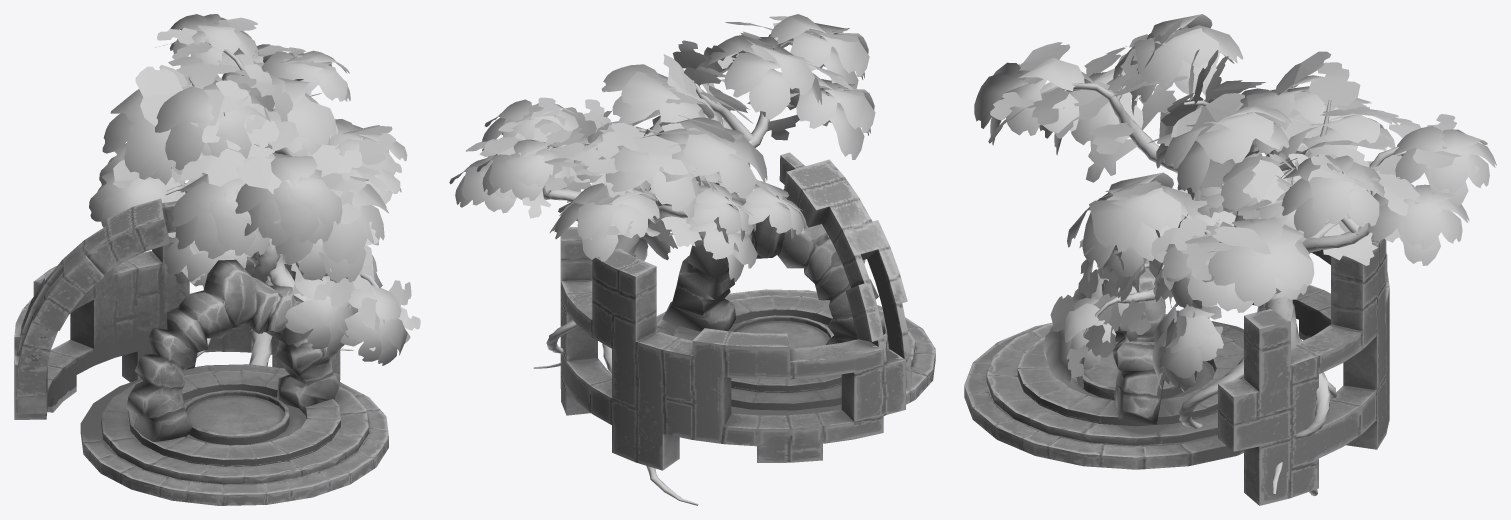
Rendered from gate.fbx.
The picture shows the model from 3 angles, left to right: view 1: azimuth 30°, elevation 25°; view 2: azimuth 150°, elevation 25°; view 3: azimuth 270°, elevation 25°; orthographic projection. The views are drawn at different scales.
Visible parts, largest first — view 1: SM__Gate_start_tree, SM_Gate_start_floar, SM_Gate_start_fence, SM_Gate_start_portal; view 2: SM__Gate_start_tree, SM_Gate_start_fence, SM_Gate_start_floar, SM_Gate_start_portal; view 3: SM__Gate_start_tree, SM_Gate_start_fence, SM_Gate_start_floar, SM_Gate_start_portal.
Boxes of the visible parts, left/top/right/bottom form: SM__Gate_start_tree: left=89, top=14, right=420, bottom=366; SM_Gate_start_floar: left=80, top=364, right=388, bottom=505; SM_Gate_start_fence: left=14, top=183, right=340, bottom=419; SM_Gate_start_portal: left=126, top=259, right=340, bottom=442; SM__Gate_start_tree: left=449, top=14, right=875, bottom=505; SM_Gate_start_fence: left=560, top=152, right=911, bottom=470; SM_Gate_start_floar: left=656, top=289, right=935, bottom=415; SM_Gate_start_portal: left=662, top=189, right=885, bottom=344; SM__Gate_start_tree: left=974, top=14, right=1496, bottom=495; SM_Gate_start_fence: left=1159, top=111, right=1389, bottom=505; SM_Gate_start_floar: left=964, top=314, right=1243, bottom=469; SM_Gate_start_portal: left=1113, top=261, right=1165, bottom=424.
Bounding box in the file's own units: 1283 × 1317 × 1352.
